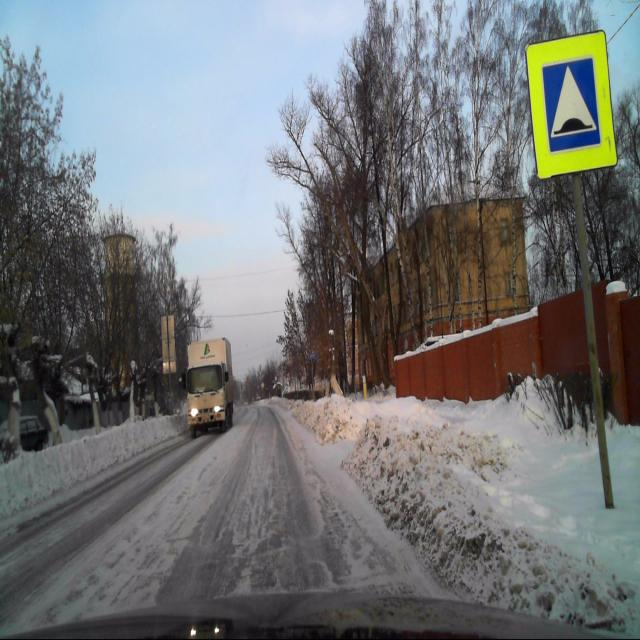object: (572, 174, 614, 510)
road sign: (527, 40, 620, 180)
